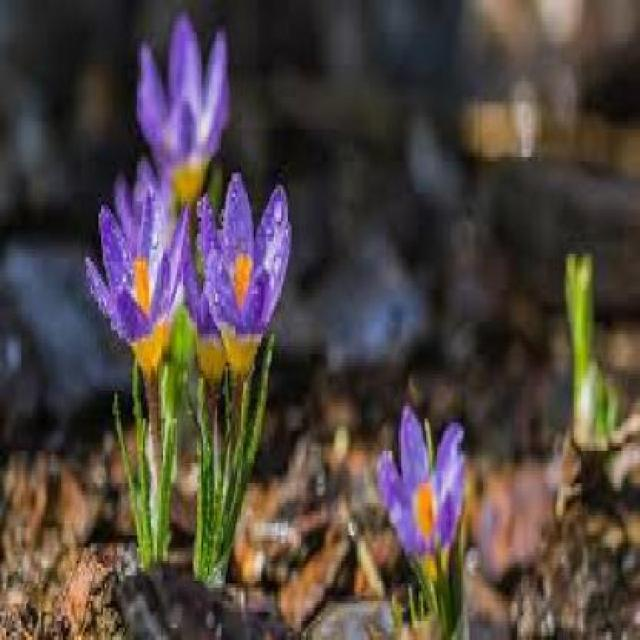saffron open: (185, 175, 290, 338), (86, 181, 179, 344), (138, 14, 228, 167), (377, 408, 463, 555)
